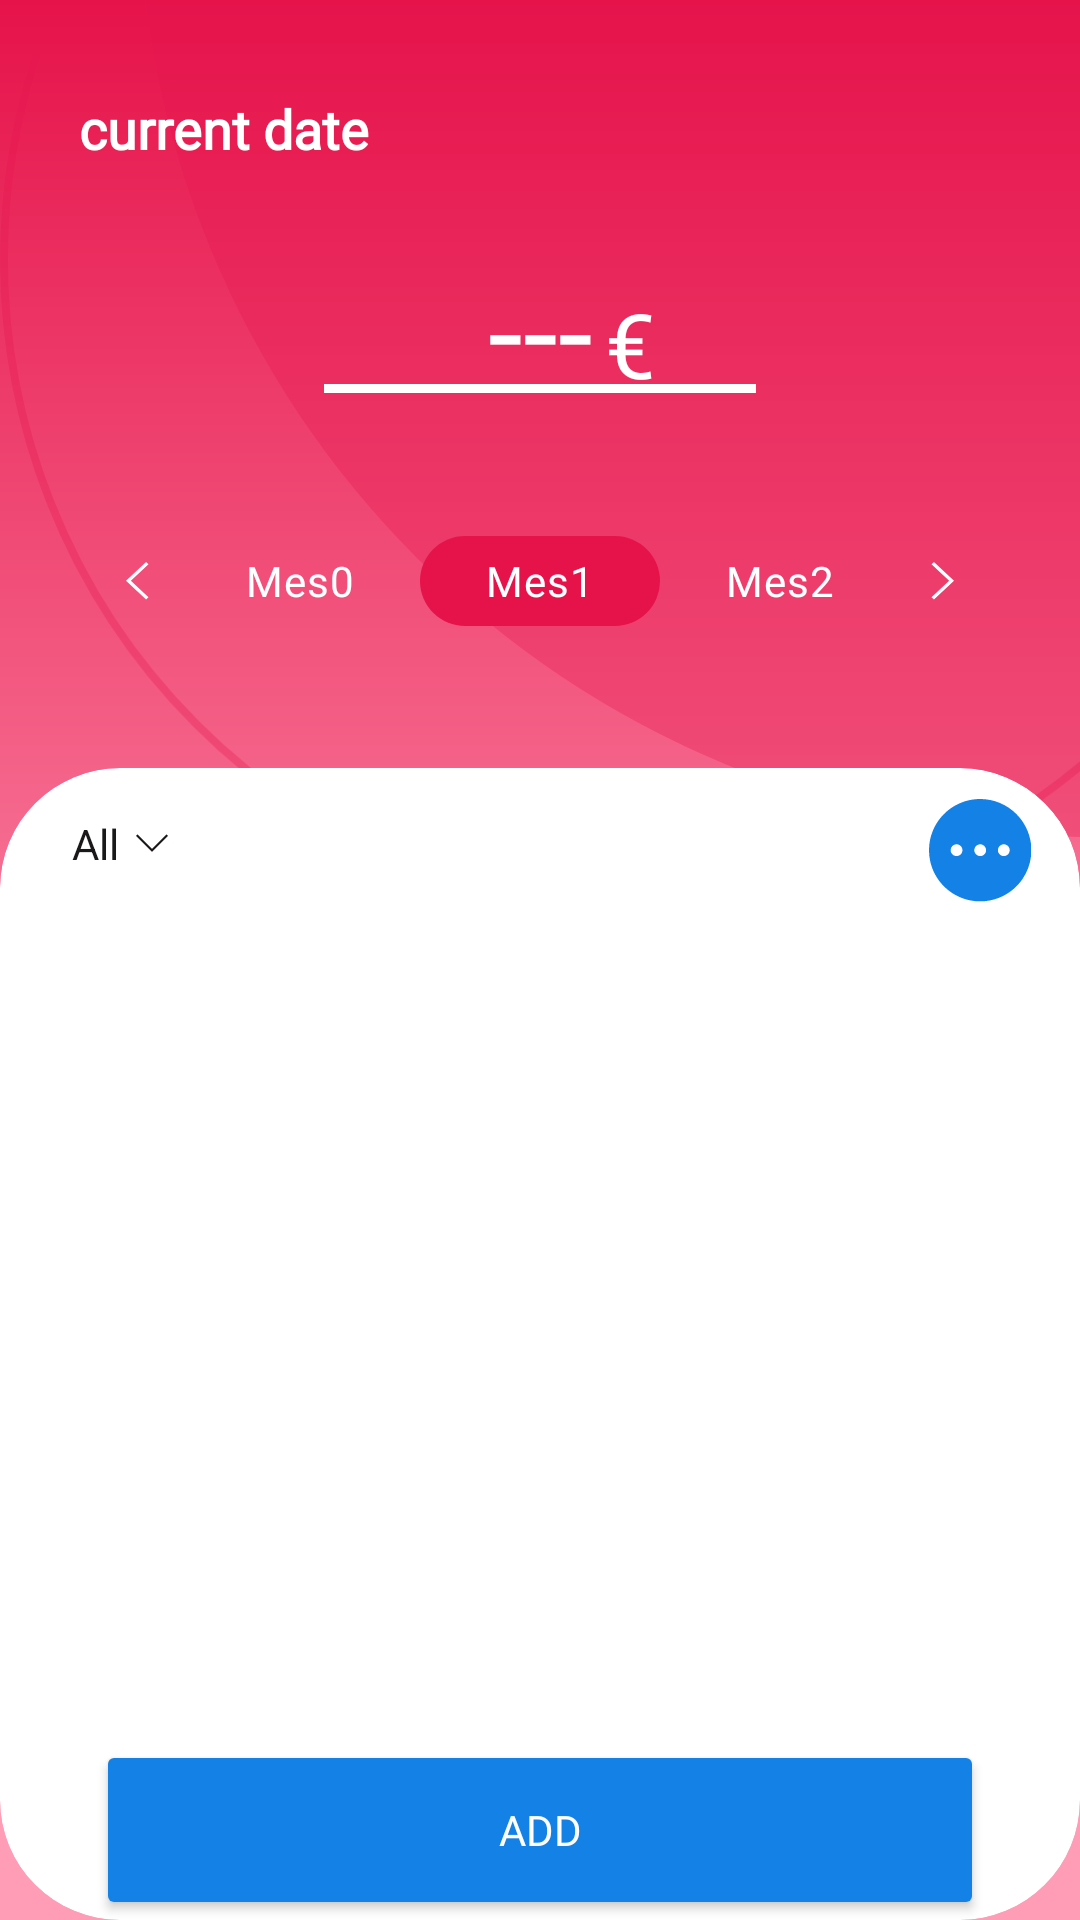

Screen size 1080w x 1920h. Icon name, then its box in pixels as (x1, y1, x2, y2):
three dots: (929, 799, 1031, 902)
